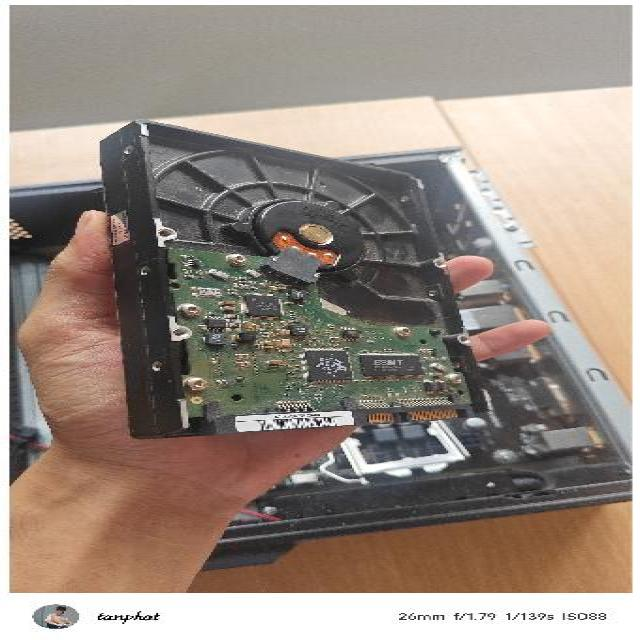DISK: (95, 112, 492, 440)
